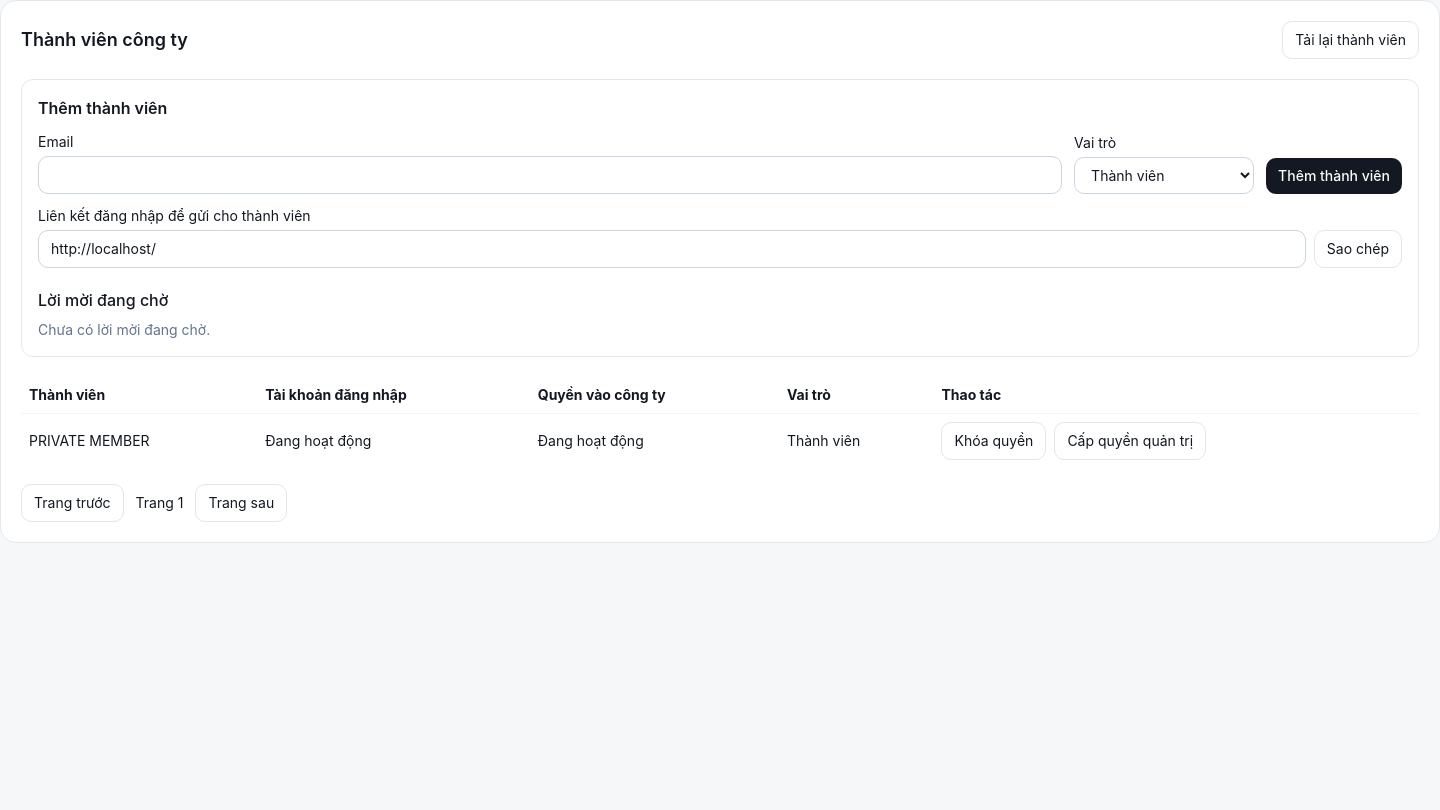
retains exactly the same operation after a lost reply and blocks other actions until resolved
The image size is (1440, 810).
Expected: the text "PRIVATE MEMBER" is shown, [21,414,257,468]
Click the button with aria-label "Khóa quyền PRIVATE MEMBER": (994,441) [942,422,1046,460]
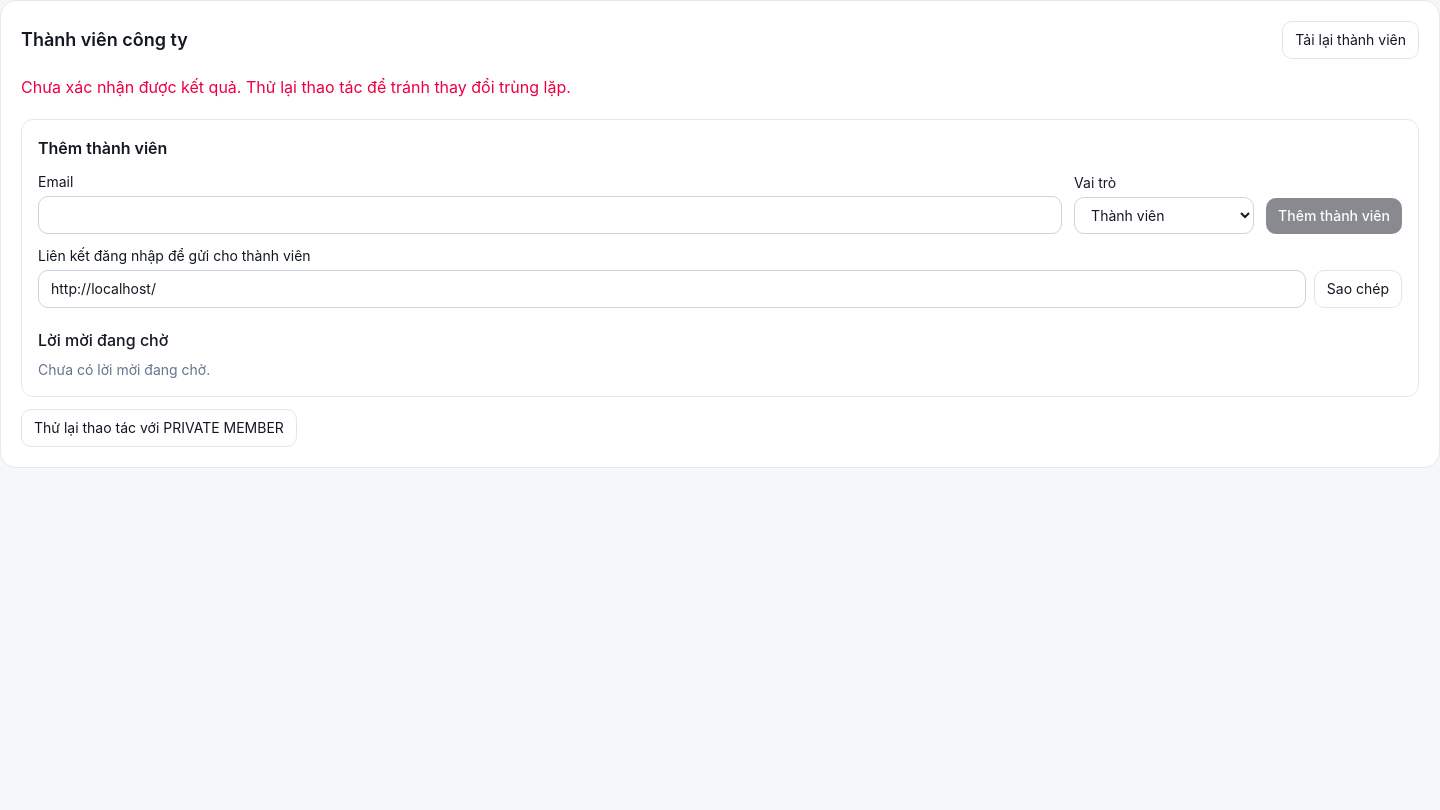
Expected: the button "Tải lại thành viên" is disabled, [1282,21,1419,59]
Expected: the message "Chưa xác nhận được kết quả. Thử lại thao tác để tránh thay đổi trùng lặp." is shown, [21,77,571,97]
Click the button "Thử lại thao tác với PRIVATE MEMBER": (159,428) [21,409,297,447]
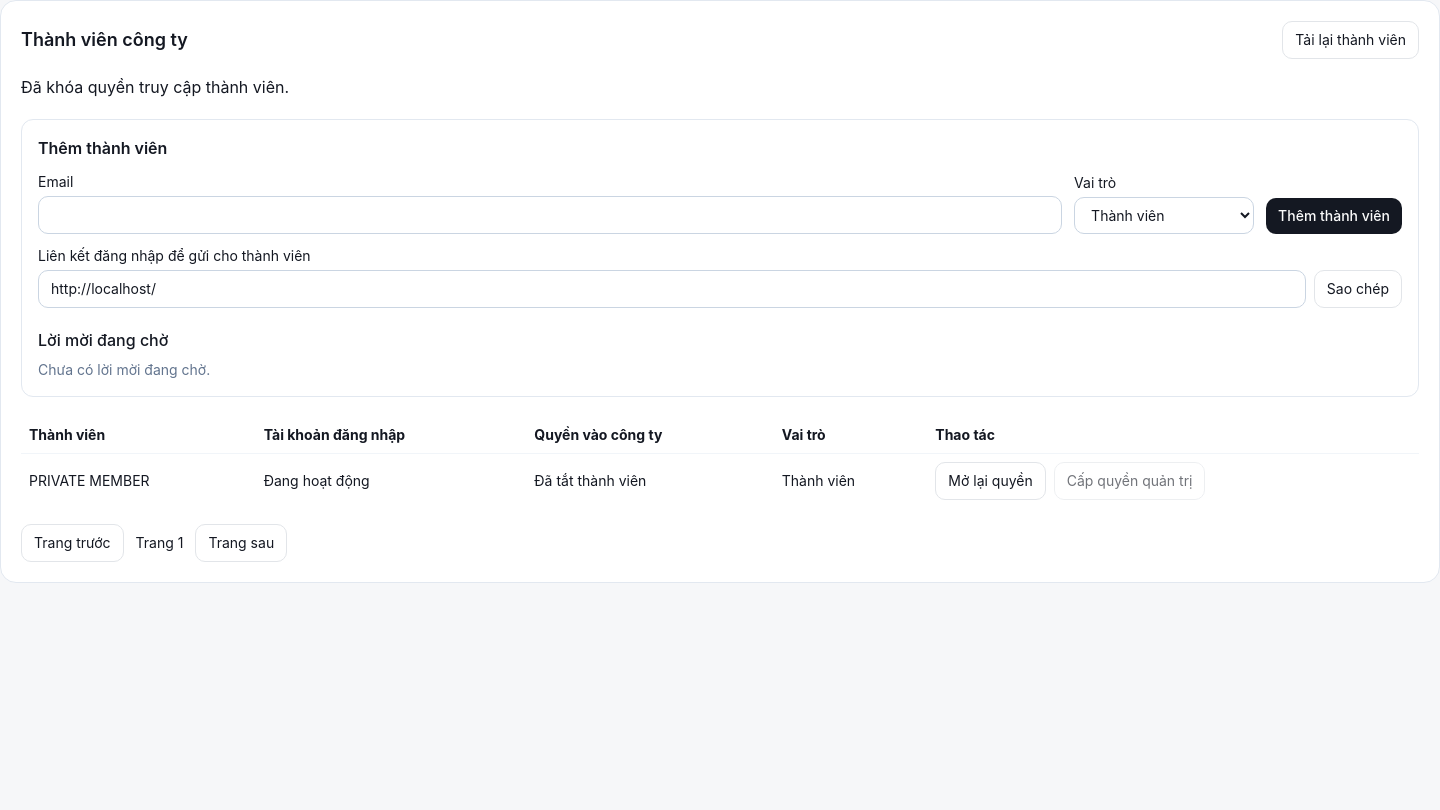
Expected: the text "Đã khóa quyền truy cập thành viên." is shown, [21,77,289,97]
Expected: the button "Thử lại thao tác với PRIVATE MEMBER" is gone
